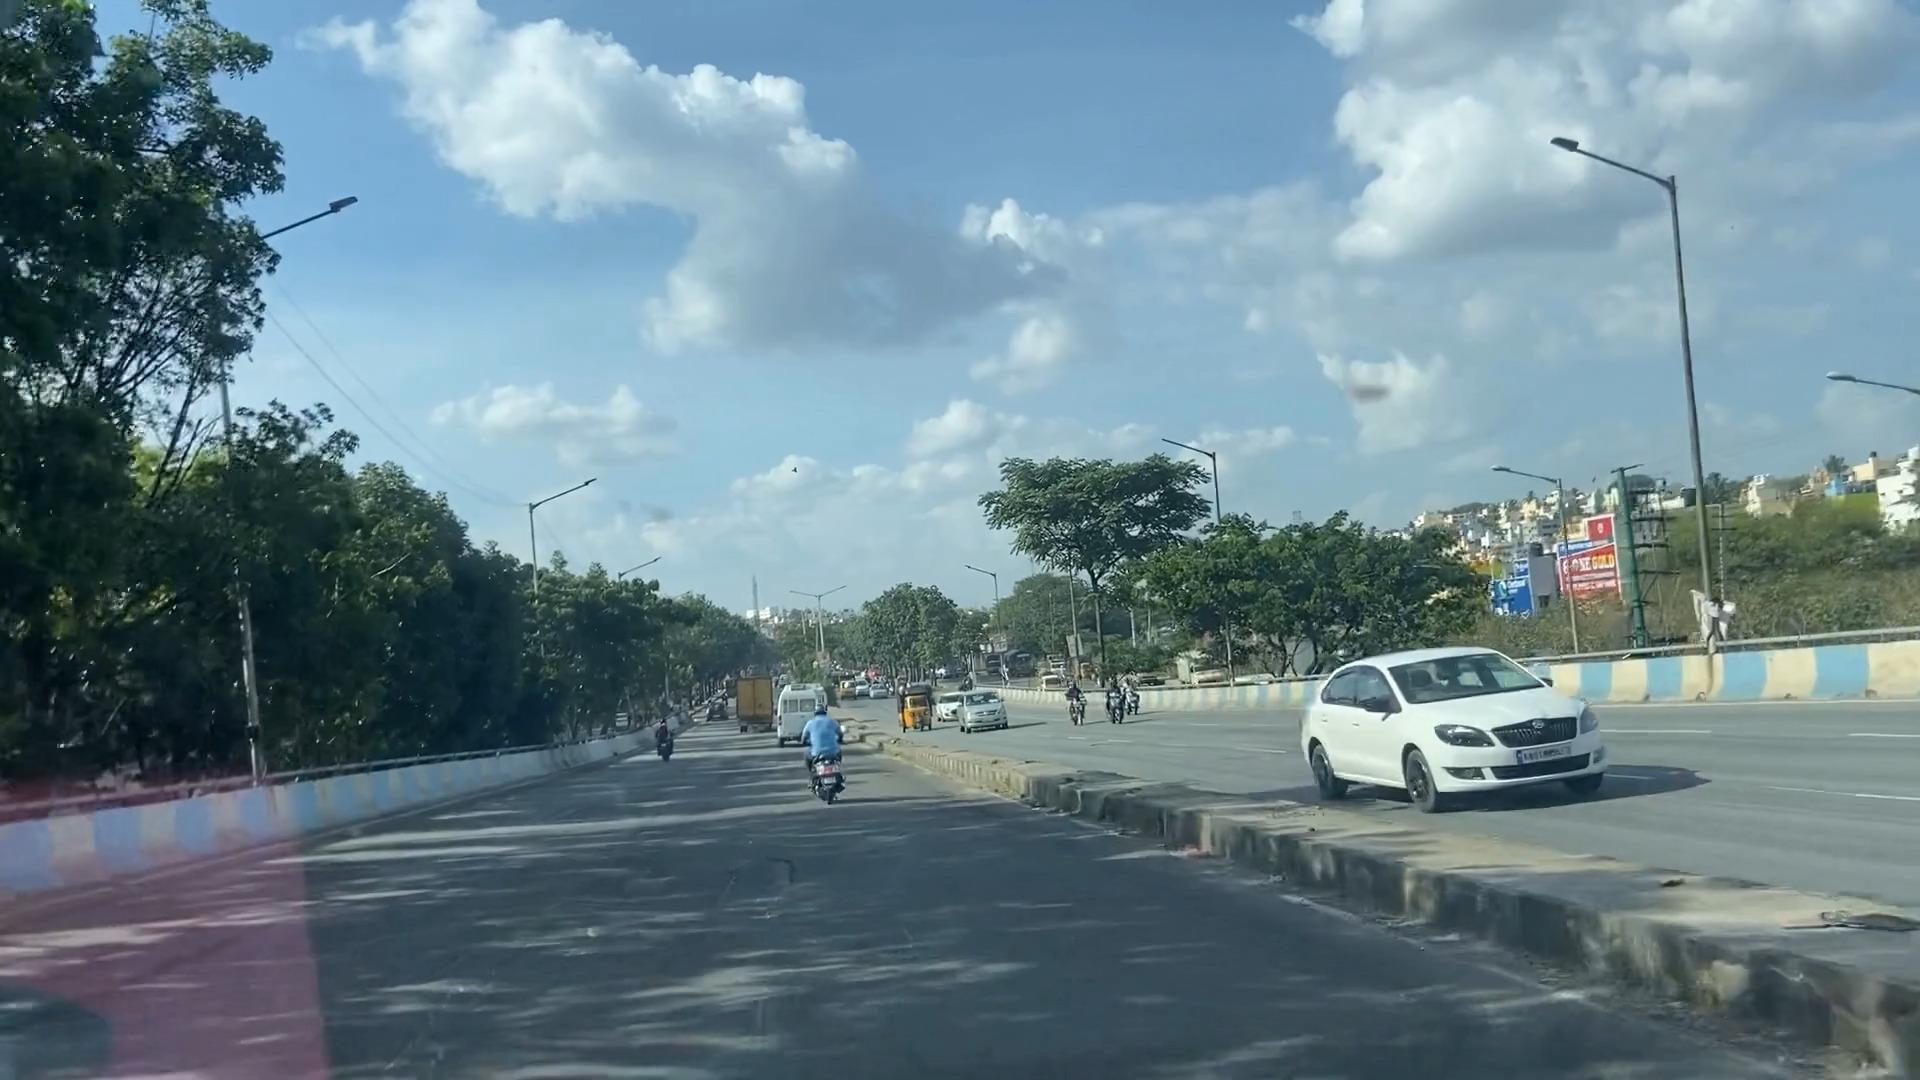LMV: (786, 695, 858, 793)
RoadDamages: (355, 905, 919, 1080), (736, 816, 806, 942)
